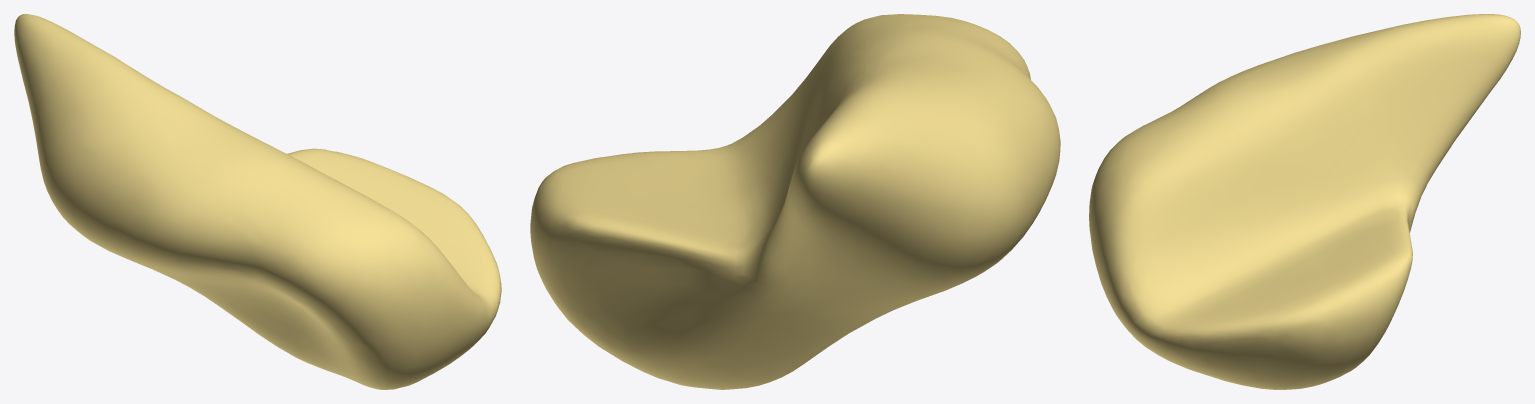
File: fma72880_mm3023m.glb
3 renders of one model, left to right at view 1: azimuth 30°, elevation 25°; view 2: azimuth 150°, elevation 25°; view 3: azimuth 270°, elevation 25°, orthographic. The views are drawn at different scales.
Visible parts, largest first — view 1: FMA72880_MM3023M; view 2: FMA72880_MM3023M; view 3: FMA72880_MM3023M.
Boxes of the visible parts, bbox=[...] form: FMA72880_MM3023M: bbox=[14, 14, 501, 389]; FMA72880_MM3023M: bbox=[530, 14, 1060, 389]; FMA72880_MM3023M: bbox=[1089, 14, 1520, 389].
Bounding box in the file's own units: 0.0126 × 0.0098 × 0.0139.
